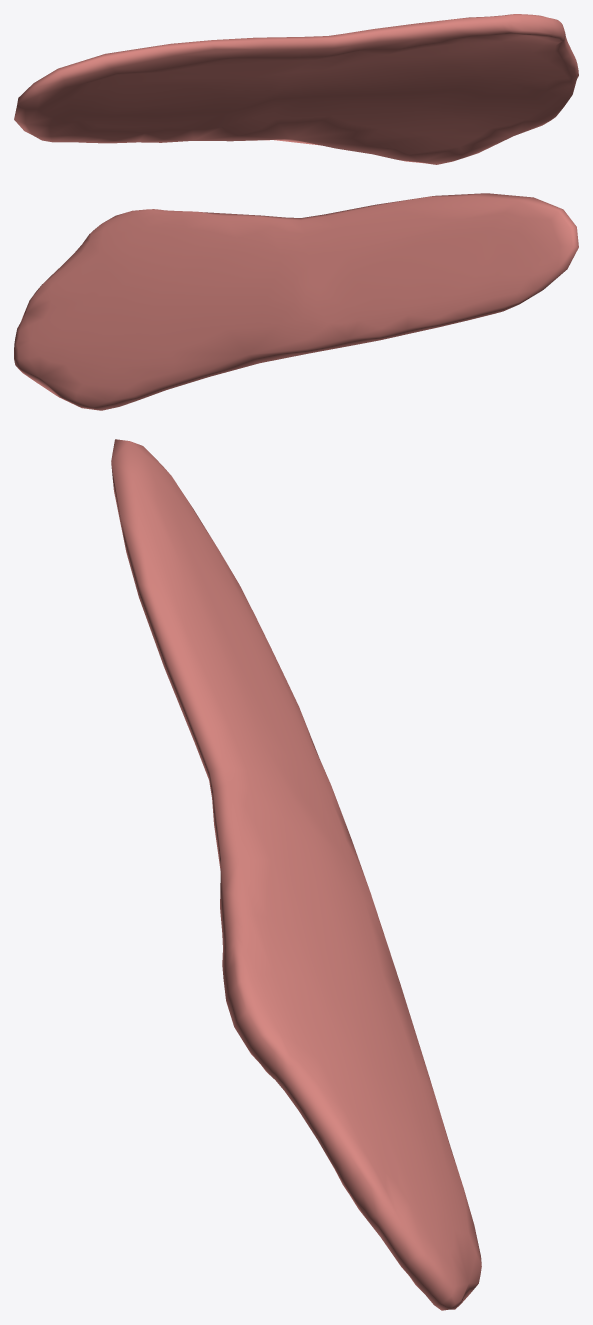
3 views of the same model, one above another, from view 1: azimuth 30°, elevation 25°; view 2: azimuth 150°, elevation 25°; view 3: azimuth 270°, elevation 25° (orthographic). The views are drawn at different scales.
Parts seen in each view (by area): view 1: ZA_36f4c4f7293f3dce; view 2: ZA_36f4c4f7293f3dce; view 3: ZA_36f4c4f7293f3dce.
Part boxes in pixels (x1,y1,x2,y2): ZA_36f4c4f7293f3dce: [14, 14, 578, 164]; ZA_36f4c4f7293f3dce: [14, 193, 578, 410]; ZA_36f4c4f7293f3dce: [111, 439, 481, 1310].
Size of the model in its own units: 0.0177 by 0.00792 by 0.00571.
